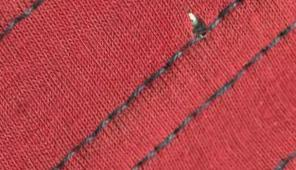hole: (184, 8, 208, 34)
